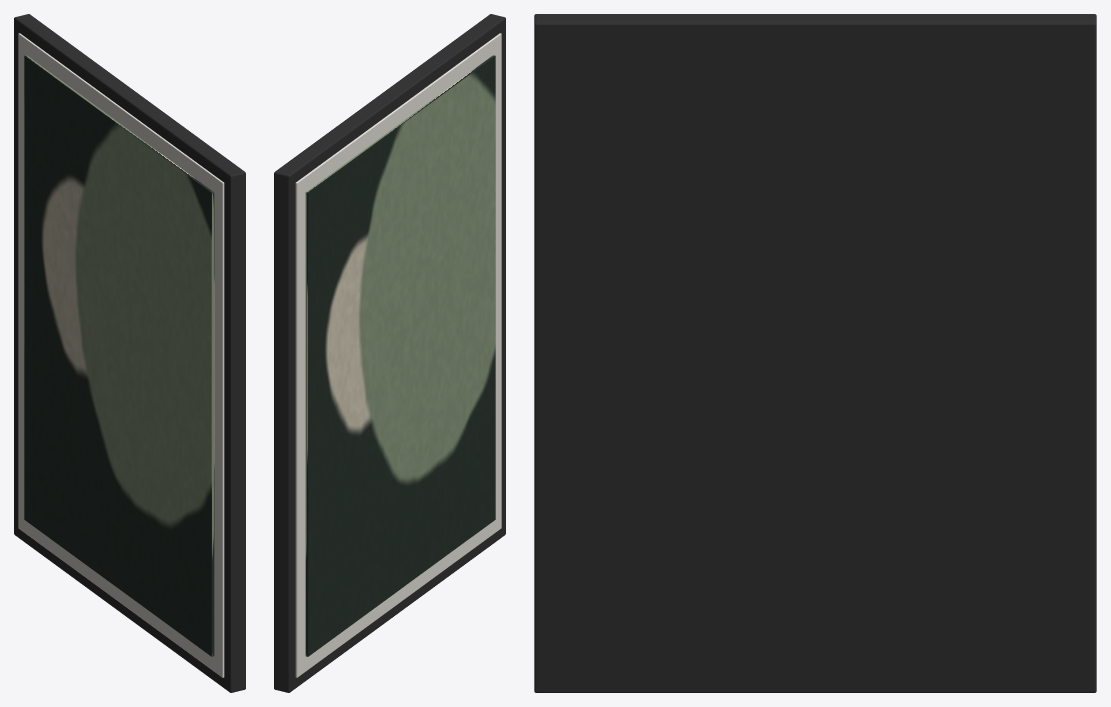
Rendered from master_art.glb.
3 views of the same model, side by side, from view 1: azimuth 30°, elevation 25°; view 2: azimuth 150°, elevation 25°; view 3: azimuth 270°, elevation 25° (orthographic). The views are drawn at different scales.
Visible parts, largest first — view 1: master_art; view 2: master_art; view 3: master_art.
Boxes of the visible parts, <box> form: master_art: <box>14,14,245,692</box>; master_art: <box>274,14,505,692</box>; master_art: <box>534,14,1096,692</box>.
Bounding box in the file's own units: 0.05 × 1.25 × 0.95.
Materials: 3 (1 with a texture image).
